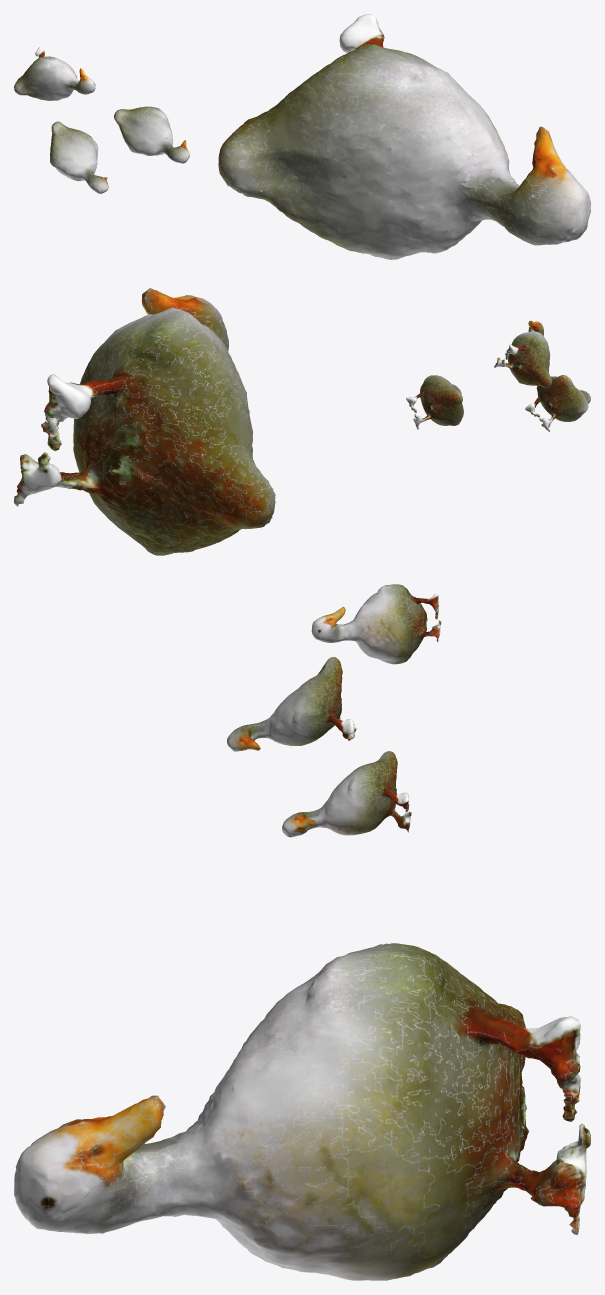
File: duck_3.glb
The picture shows the model from 3 angles, top to bottom: view 1: azimuth 30°, elevation 25°; view 2: azimuth 150°, elevation 25°; view 3: azimuth 270°, elevation 25°; orthographic projection. The views are drawn at different scales.
Visible parts, largest first — view 1: model, model.003, model.001, model.002; view 2: model, model.002, model.003, model.001; view 3: model, model.002, model.003, model.001.
Part boxes in pixels (box(x1,y1,x2,y2)): model: box(218, 14, 590, 259); model.003: box(114, 106, 189, 163); model.001: box(50, 121, 108, 193); model.002: box(14, 47, 95, 100); model: box(14, 288, 275, 555); model.002: box(494, 320, 552, 387); model.003: box(406, 375, 463, 429); model.001: box(525, 375, 590, 431); model: box(14, 943, 590, 1280); model.002: box(311, 584, 441, 664); model.003: box(282, 751, 411, 837); model.001: box(227, 657, 356, 751).
Bounding box in the file's own units: 1.73 × 0.9918 × 1.19.
4 materials, 4 textured.
